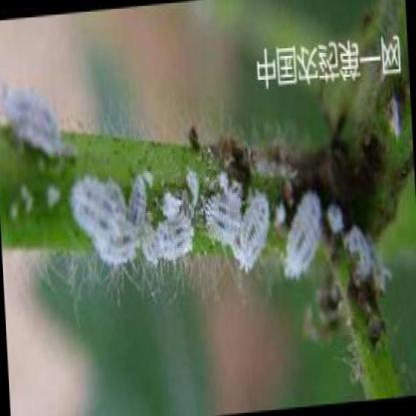mealy bug: (4, 88, 62, 161), (70, 180, 131, 241), (281, 195, 319, 277), (237, 194, 269, 270), (156, 219, 193, 263), (206, 197, 240, 242), (129, 176, 147, 231)
